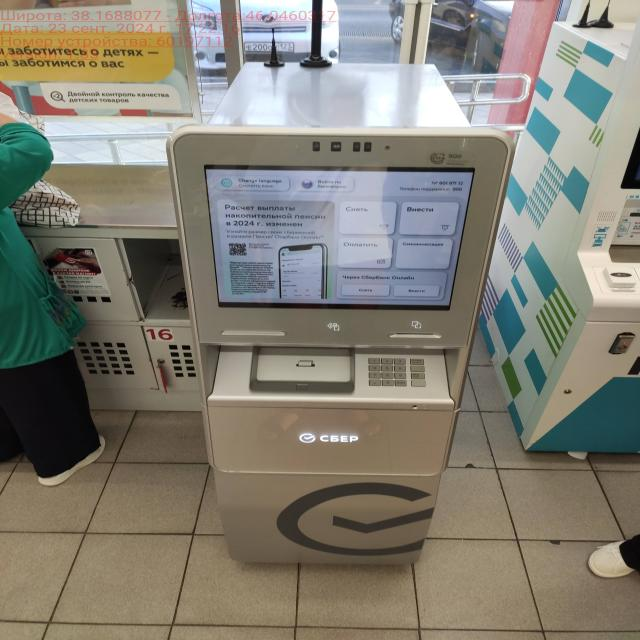bank: (164, 60, 514, 569)
